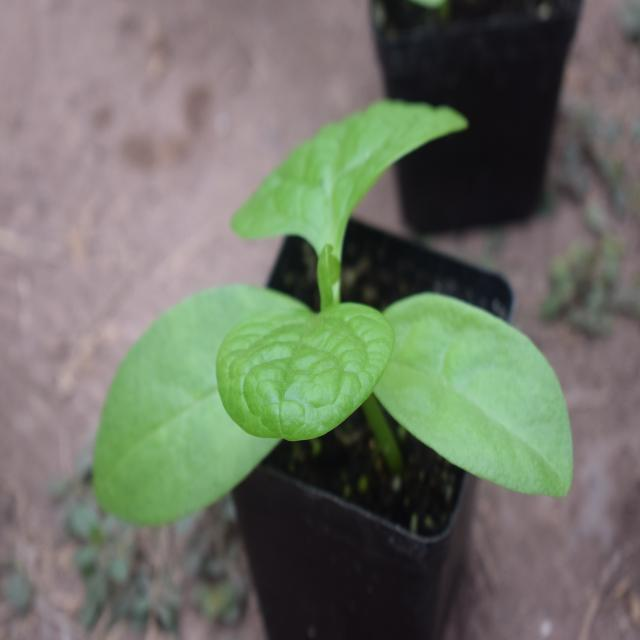Ceylon spinach: (62, 107, 577, 531)
